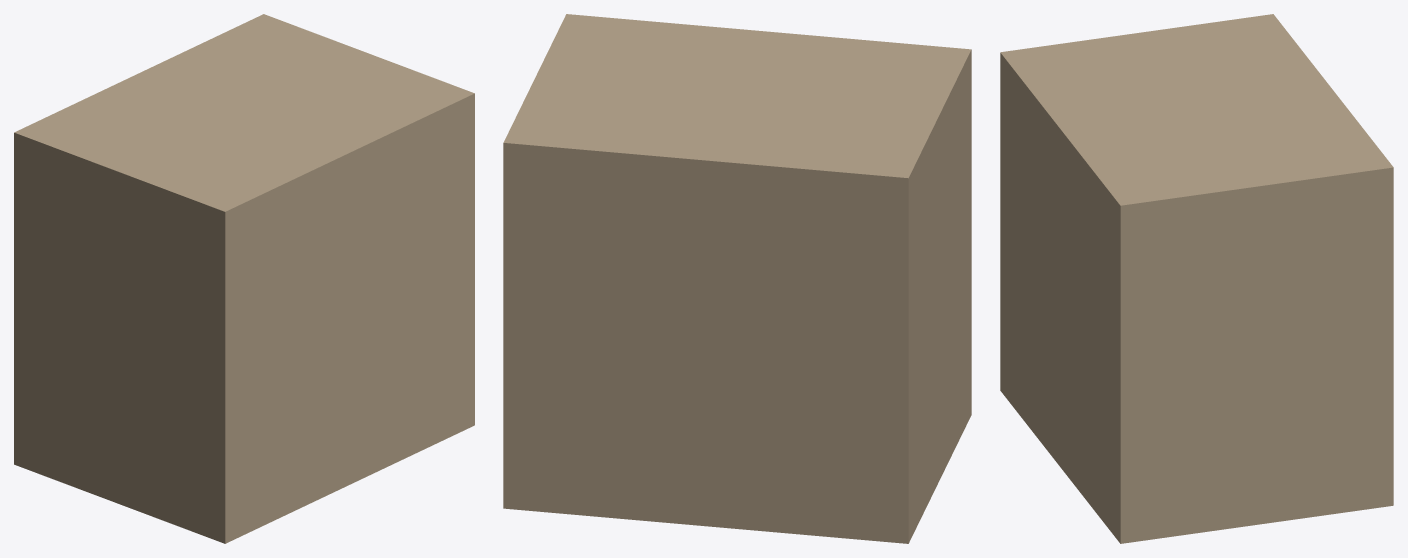
The model's file is bld_107639510.dae.
3 views of the same model, side by side, from view 1: azimuth 30°, elevation 25°; view 2: azimuth 150°, elevation 25°; view 3: azimuth 270°, elevation 25° (orthographic). The views are drawn at different scales.
Visible parts, largest first — view 1: bld_107639510; view 2: bld_107639510; view 3: bld_107639510.
Part boxes in pixels (bbox=[...]): bld_107639510: bbox=[14, 14, 474, 543]; bld_107639510: bbox=[503, 14, 971, 543]; bld_107639510: bbox=[1000, 14, 1393, 543].
Bounding box in the file's own units: 9.73 × 8.43 × 8.
